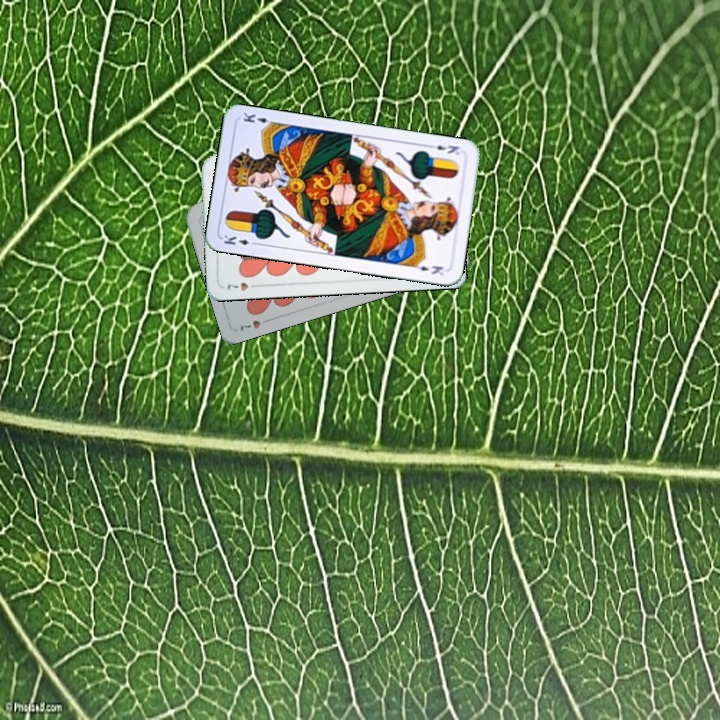EK: (220, 231, 260, 248), (424, 140, 462, 157)
H7: (236, 314, 274, 334), (222, 278, 262, 293)
